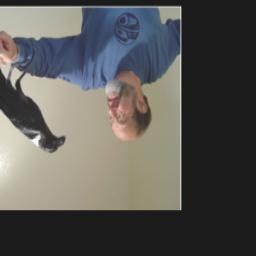Crow: (0, 56, 66, 157)
